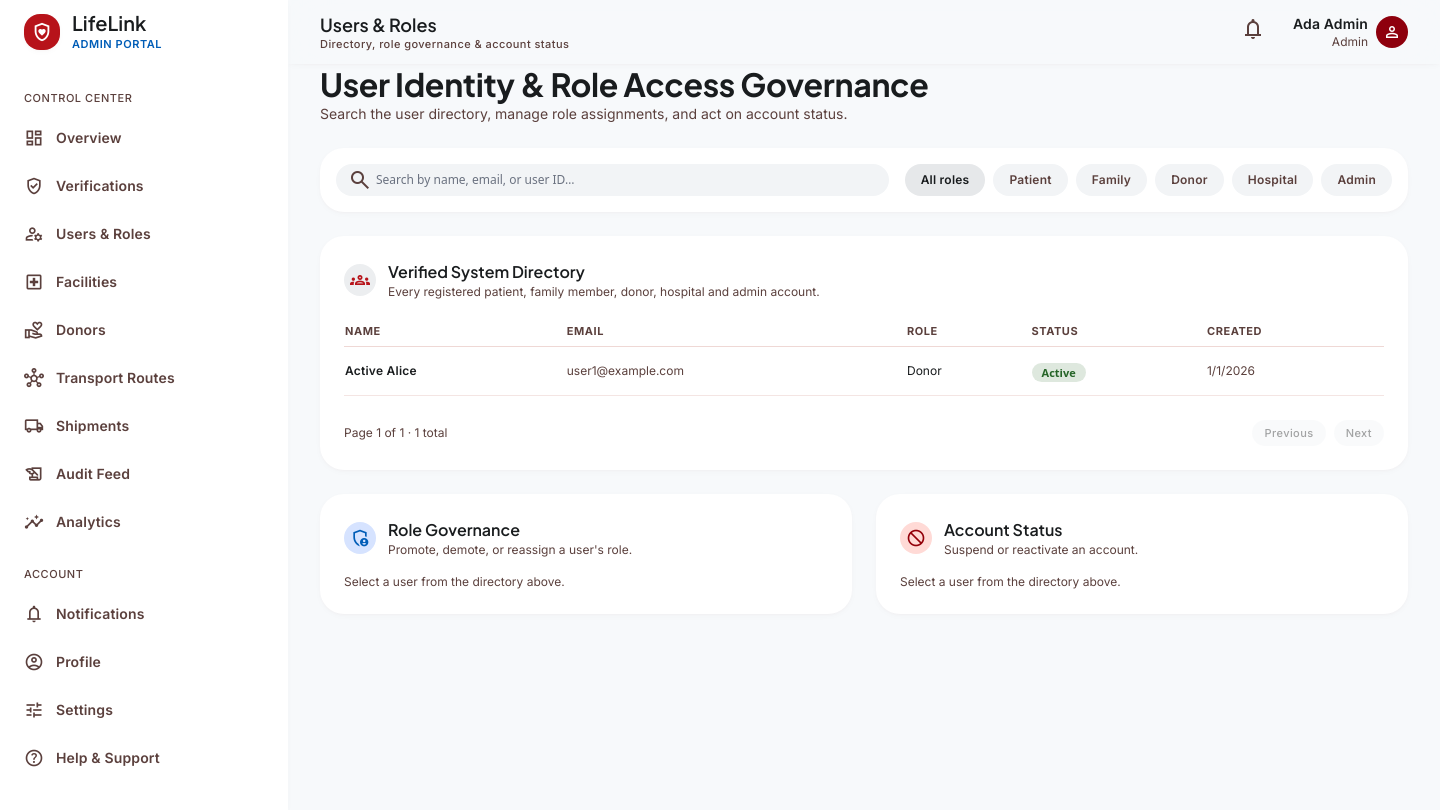
Test case: UserManagement -- suspend/reactivate flow › enables Suspend at exactly the 3-character (trimmed) minimum and calls the real mutation with the trimmed reason
Later steps or results of the test are not shown.
Click the text "Active Alice" at {"x": 381, "y": 370}, box x1=344 y1=346 x2=566 y2=396
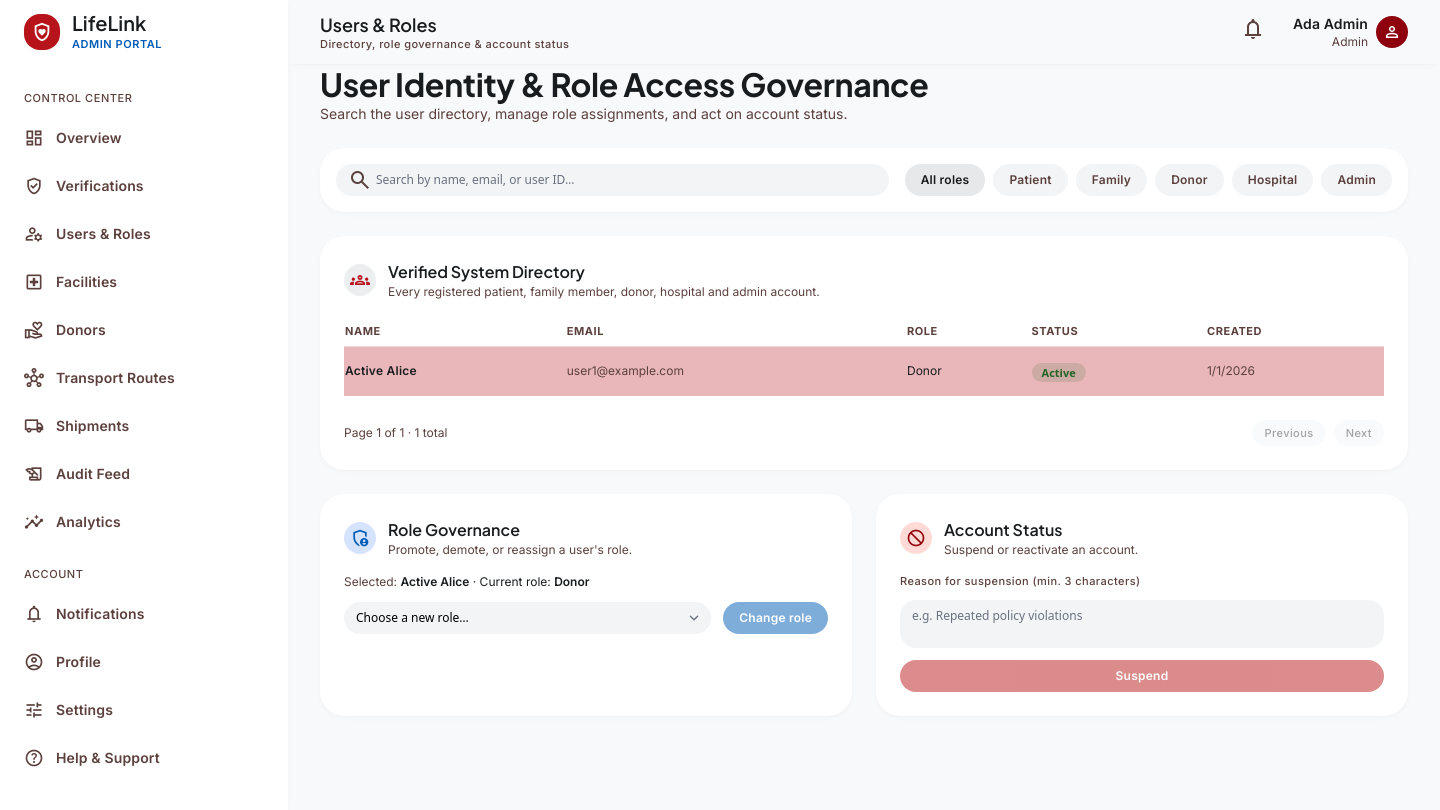
Type "  abc  " into the text box labelled "Reason for suspension (min. 3 characters)" at {"x": 1142, "y": 624}, box x1=900 y1=600 x2=1384 y2=648
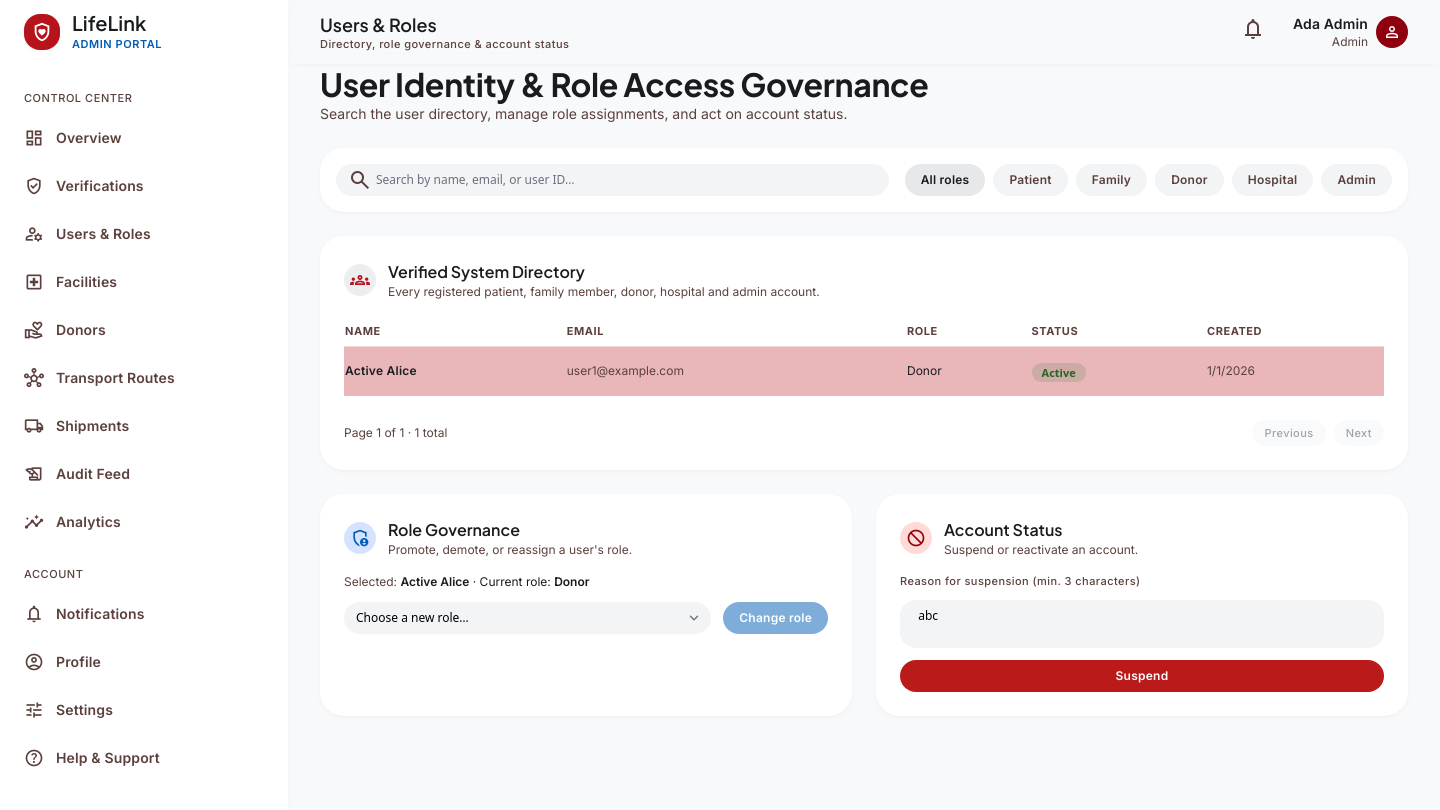
Expected: the button "Suspend" is enabled, x1=900 y1=660 x2=1384 y2=692
